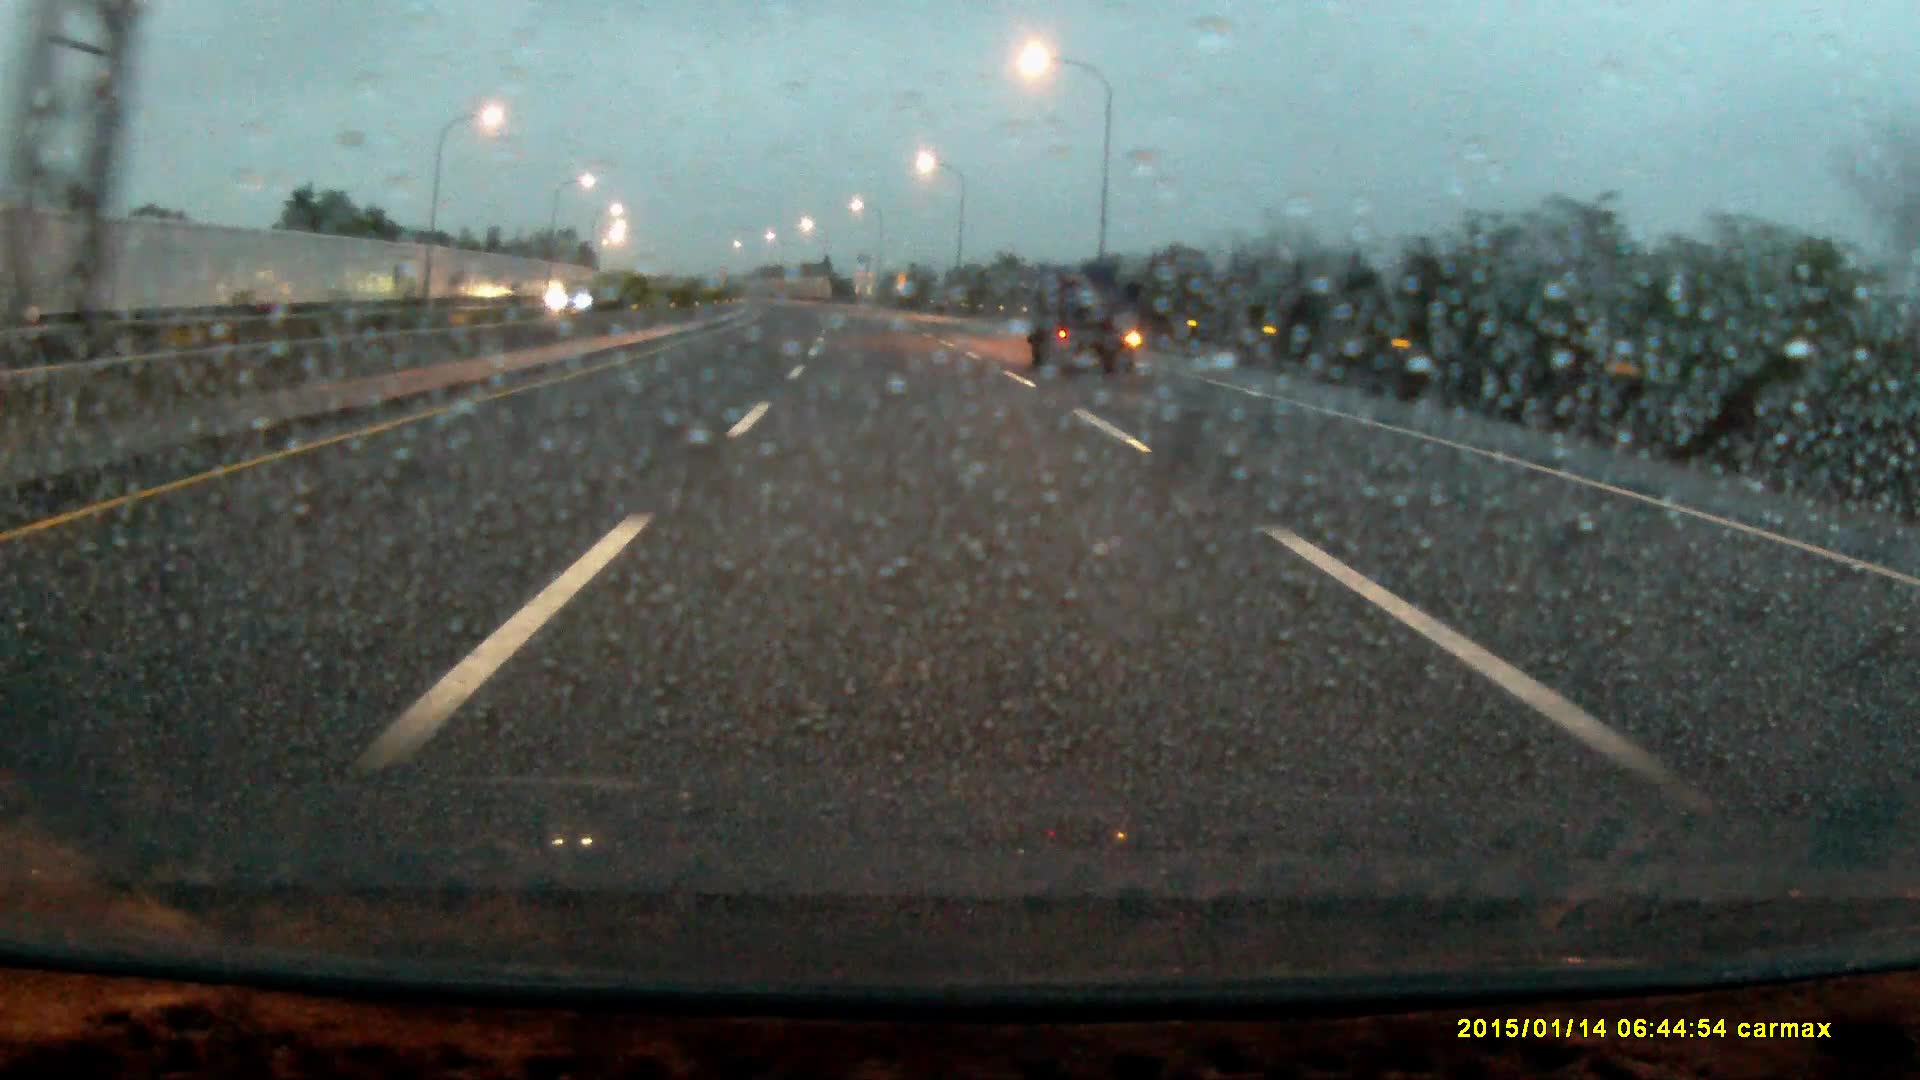vehicle: (1031, 273, 1139, 378), (549, 284, 600, 316)
